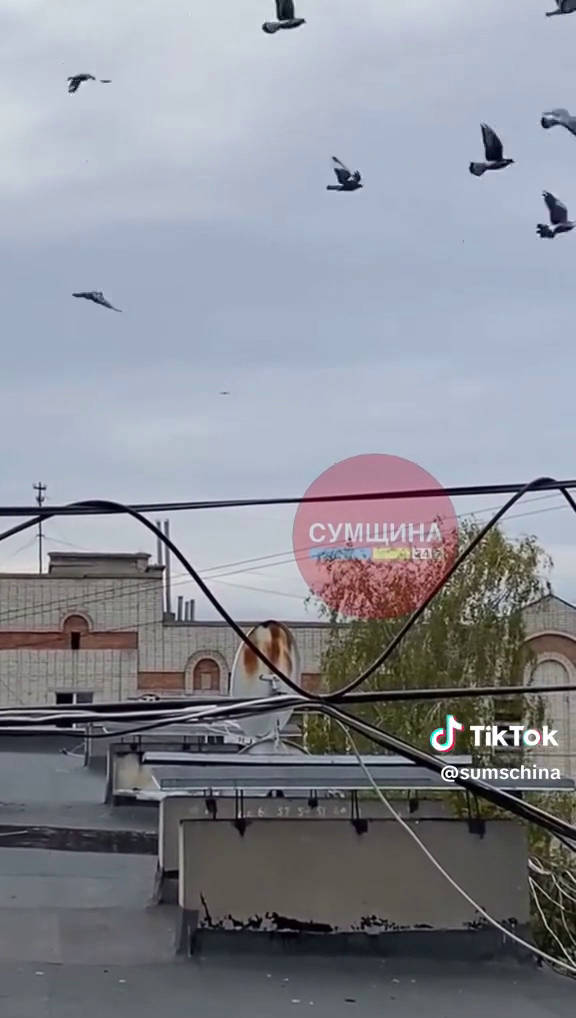not_drone: (462, 117, 519, 180), (532, 186, 576, 244), (321, 153, 368, 198), (260, 0, 309, 42), (68, 285, 128, 317), (56, 66, 116, 96), (536, 100, 576, 140)
